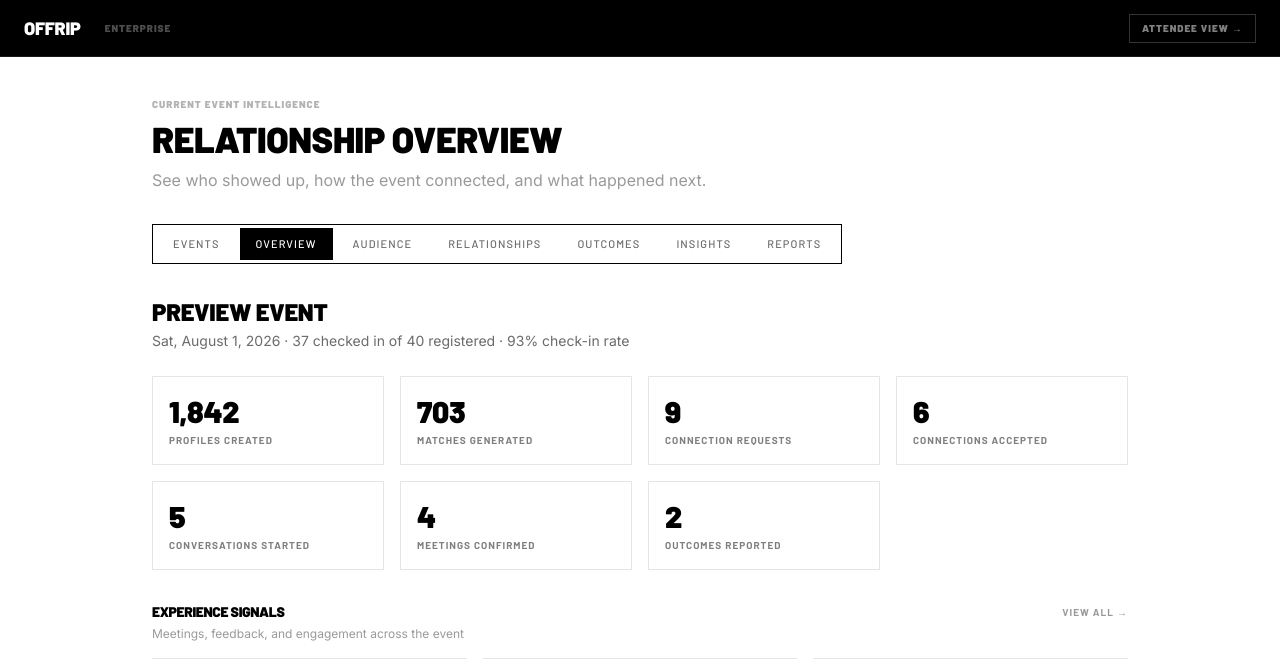
OrganizerAdmin — enterprise tabs › renders the Reports tab and loads the report list
Expected: the text "PROFILES CREATED" is shown, [169,434,273,446]
Press the mouse on the tab "Reports": (794, 244) [751,228,837,260]
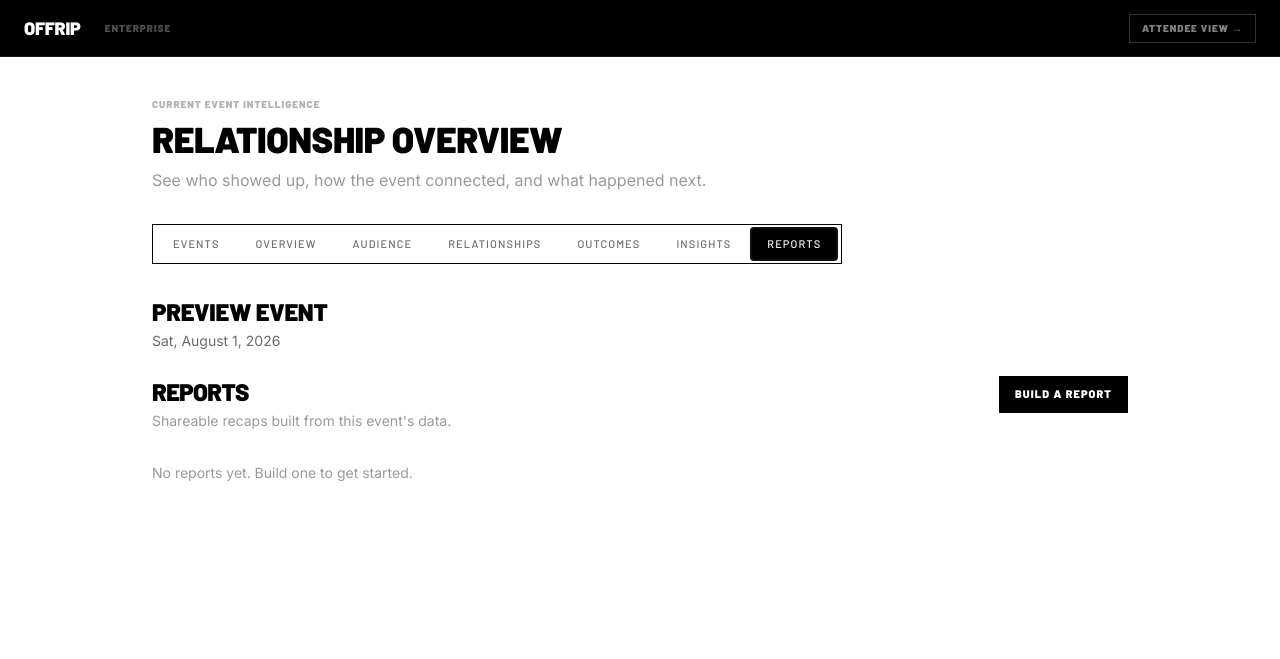
Result: the text "REPORTS" is shown at [152,377,249,406]
Result: the button "BUILD A REPORT" is shown at [999,376,1128,412]
